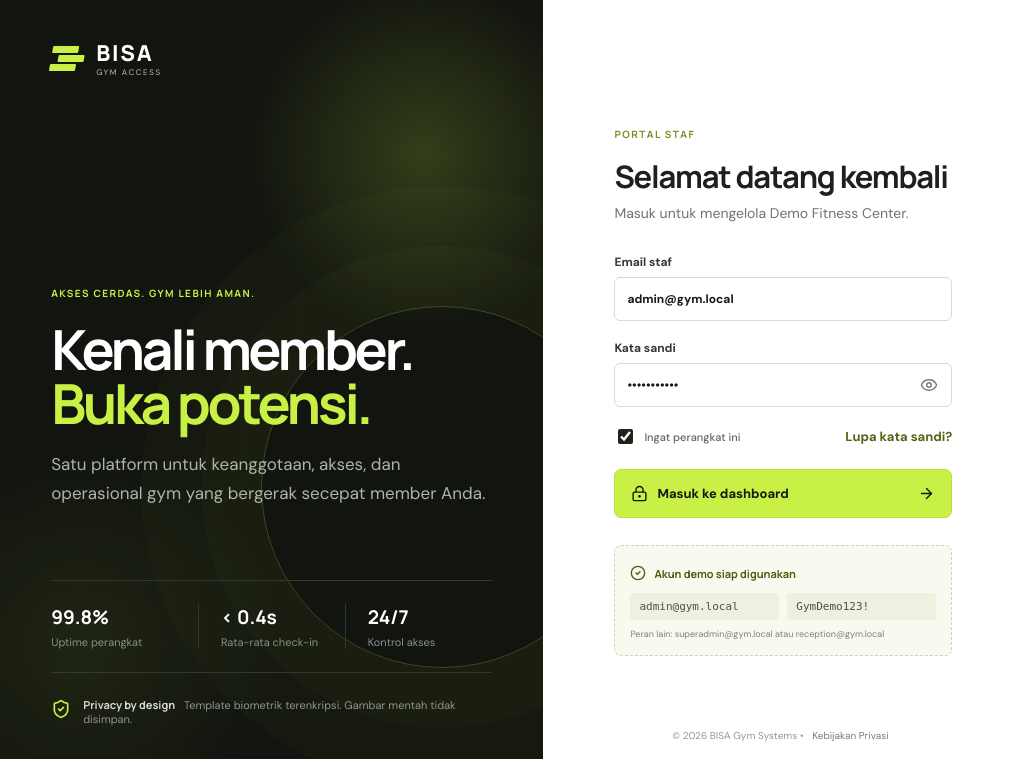
Scenario: authentication and roles › logs in through the live backend and maps backend collections
The width and height of the screenshot is (1024, 759).
Expected: the heading "Selamat datang kembali" is shown, [614, 155, 952, 197]
What coordinates should you click on to do the following:
click the button "Masuk ke dashboard"
I would click on:
 (783, 494)
Its box is [614, 469, 952, 518].
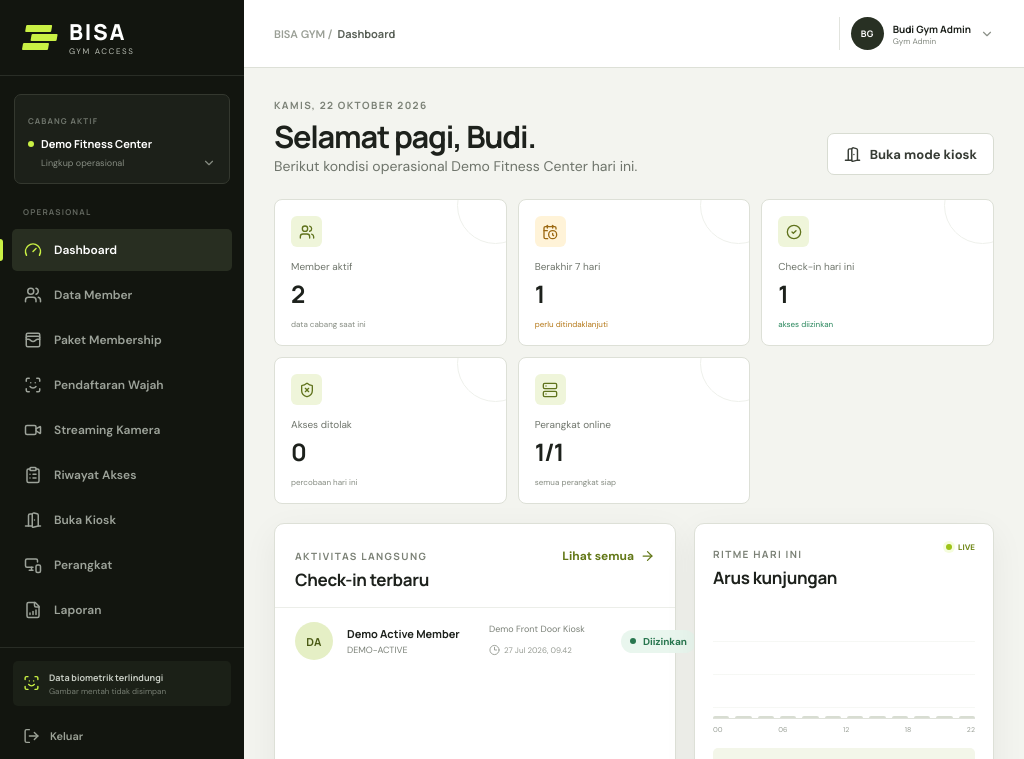
Result: the heading "Selamat pagi, Budi." is shown at [274, 115, 536, 157]
Result: the text "Demo Active Member" is shown at [347, 626, 477, 641]
